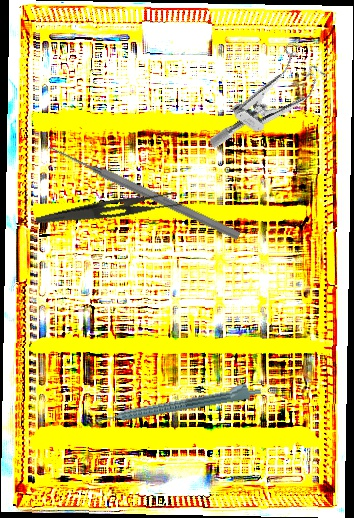Dressing Forceps: (35, 183, 183, 241)
Handpiece: (93, 378, 263, 427)
Pusher: (46, 141, 242, 242)
Speculum: (206, 29, 336, 177)
